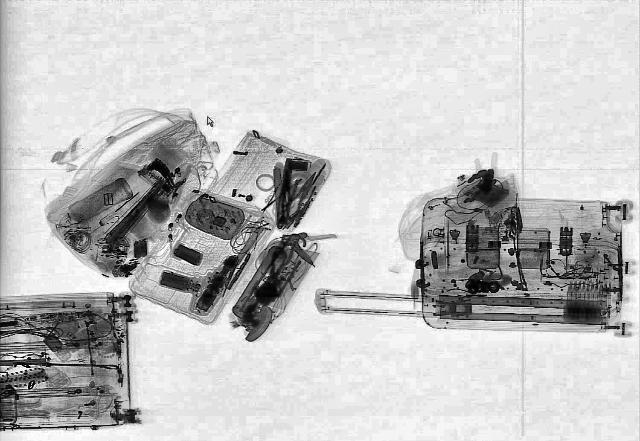Pliers: (260, 238, 300, 284)
